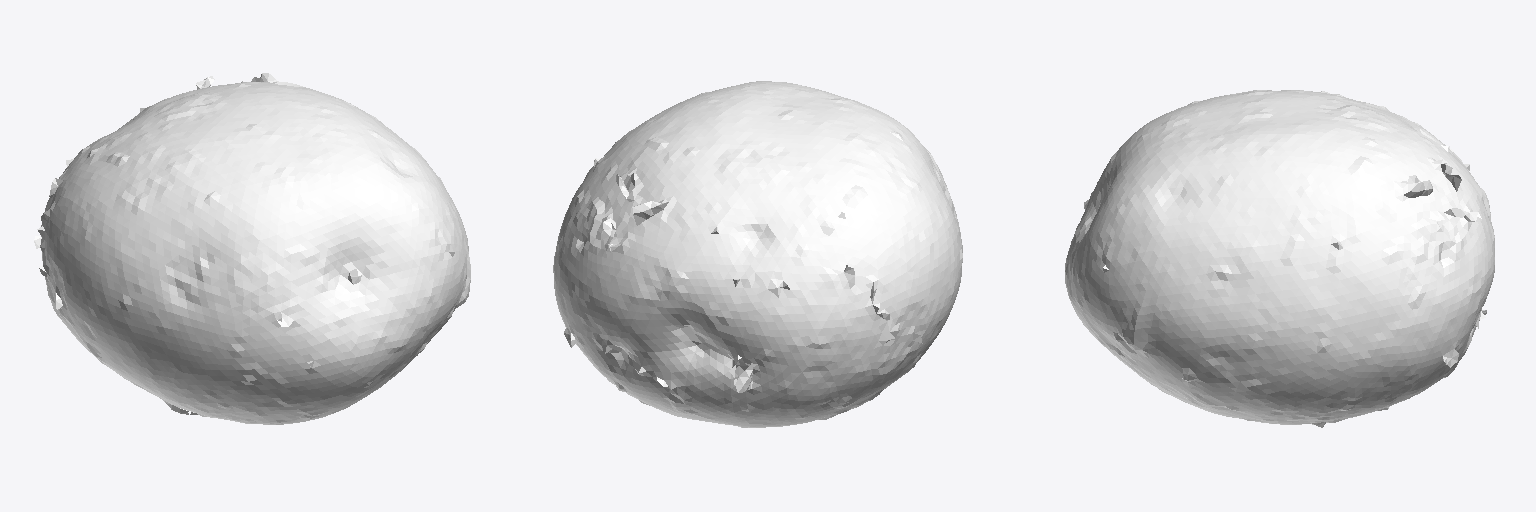
Rendered from Potato_002.obj.
3 views of the same model, side by side, from view 1: azimuth 30°, elevation 25°; view 2: azimuth 150°, elevation 25°; view 3: azimuth 270°, elevation 25° (orthographic).
Parts seen in each view (by area): view 1: Potato3_lowpoly; view 2: Potato3_lowpoly; view 3: Potato3_lowpoly.
Boxes of the visible parts, x1=… form: Potato3_lowpoly: x1=34, y1=73, x2=470, y2=424; Potato3_lowpoly: x1=553, y1=81, x2=962, y2=427; Potato3_lowpoly: x1=1065, y1=90, x2=1494, y2=427.
Size of the model in its own units: 1.29 by 0.977 by 1.36.